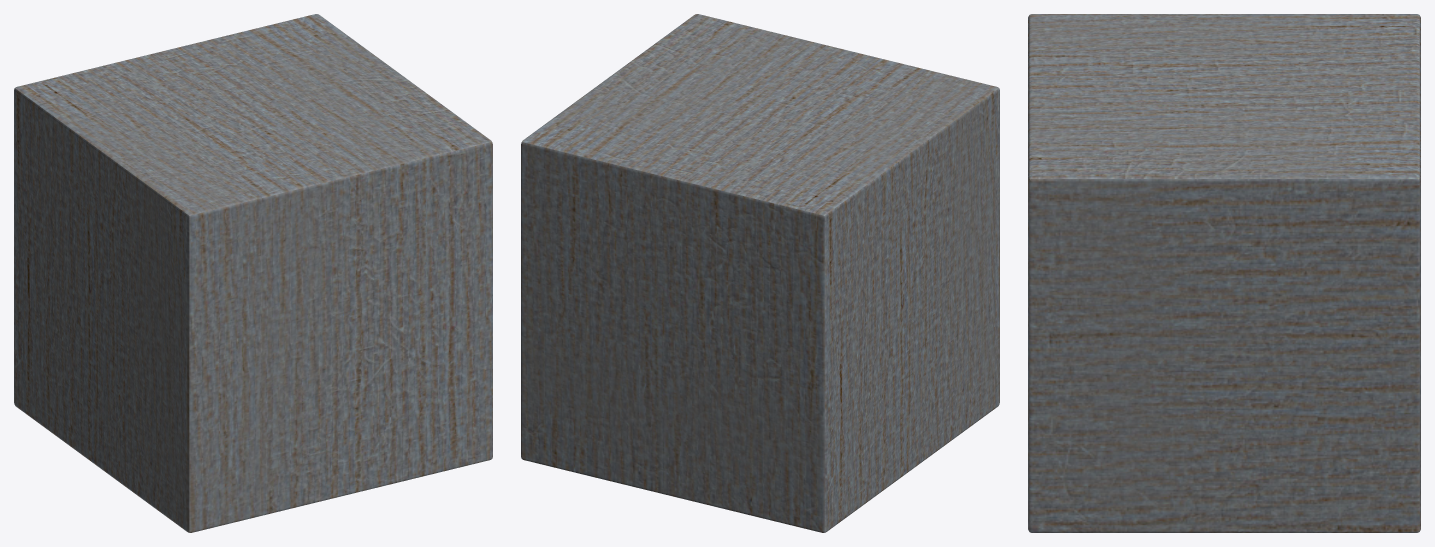
The model's file is Square Box UVed OBJ.obj.
The picture shows the model from 3 angles, left to right: view 1: azimuth 30°, elevation 25°; view 2: azimuth 150°, elevation 25°; view 3: azimuth 270°, elevation 25°; orthographic projection. The views are drawn at different scales.
Visible parts, largest first — view 1: pCube2; view 2: pCube2; view 3: pCube2.
Part boxes in pixels (x1,y1,x2,y2): pCube2: (14,14,492,532); pCube2: (521,14,999,532); pCube2: (1028,14,1420,532).
Bounding box in the file's own units: 95.25 × 95.25 × 95.25.
1 material, 1 textured.
